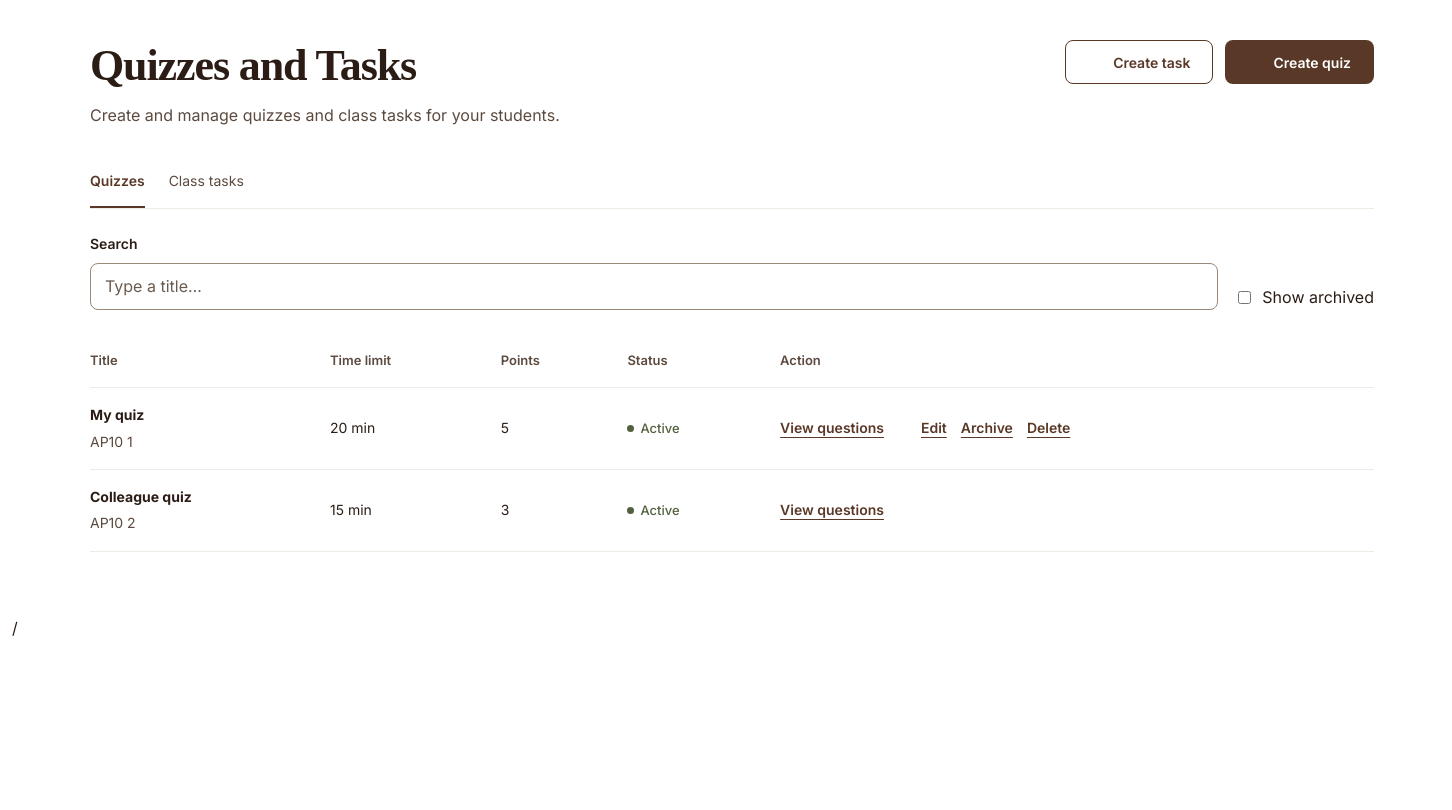
Test: AssessmentsPage › hides archived items until "Show archived" is ticked, and can restore them
Check: the text "My quiz" is shown, box [90, 406, 144, 423]
Check: the text "Old quiz" is not shown
Click the checkbox labelled "Show archived".
click(1245, 298)  # box [1238, 291, 1251, 304]
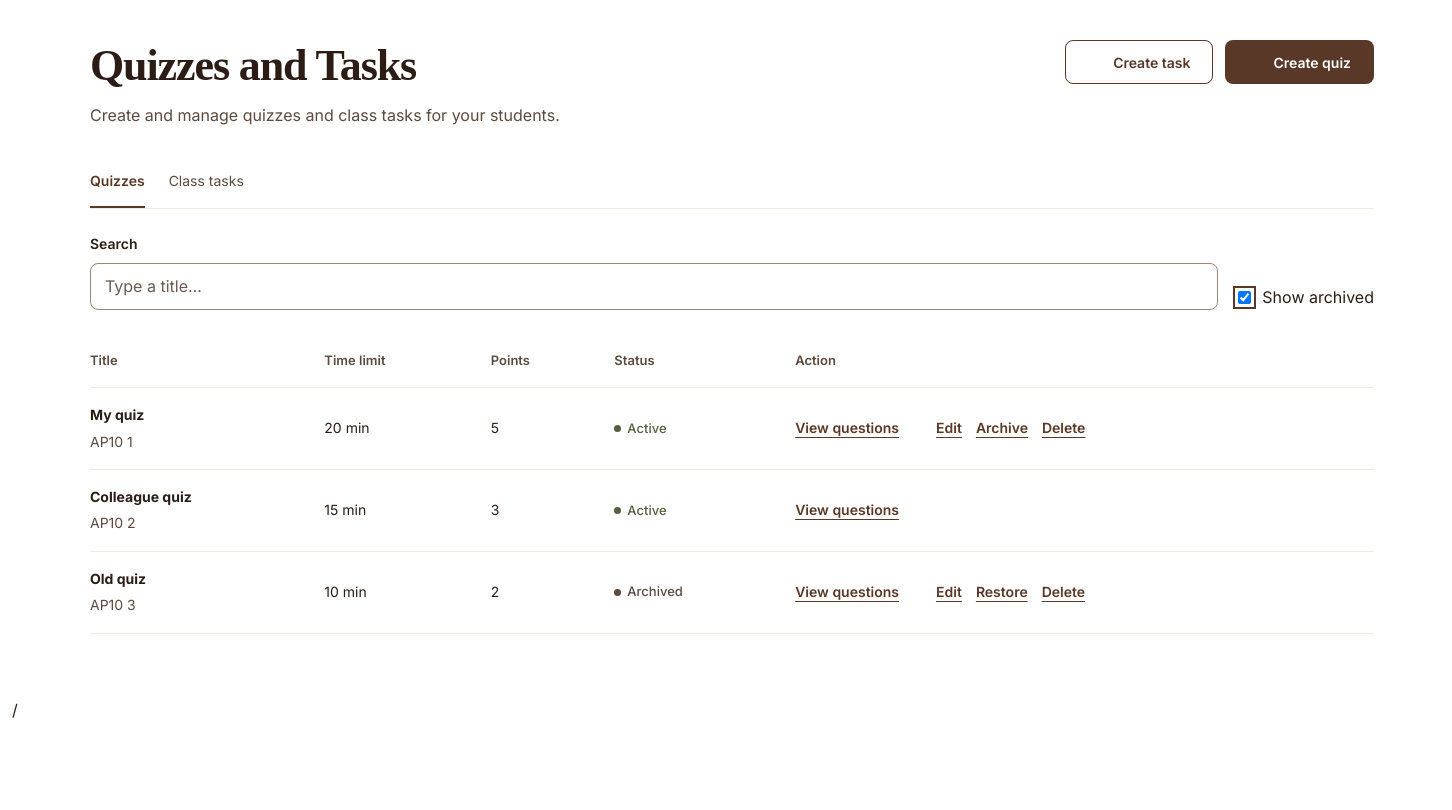
Click the button "Restore".
click(1002, 592)  # box [976, 570, 1028, 614]
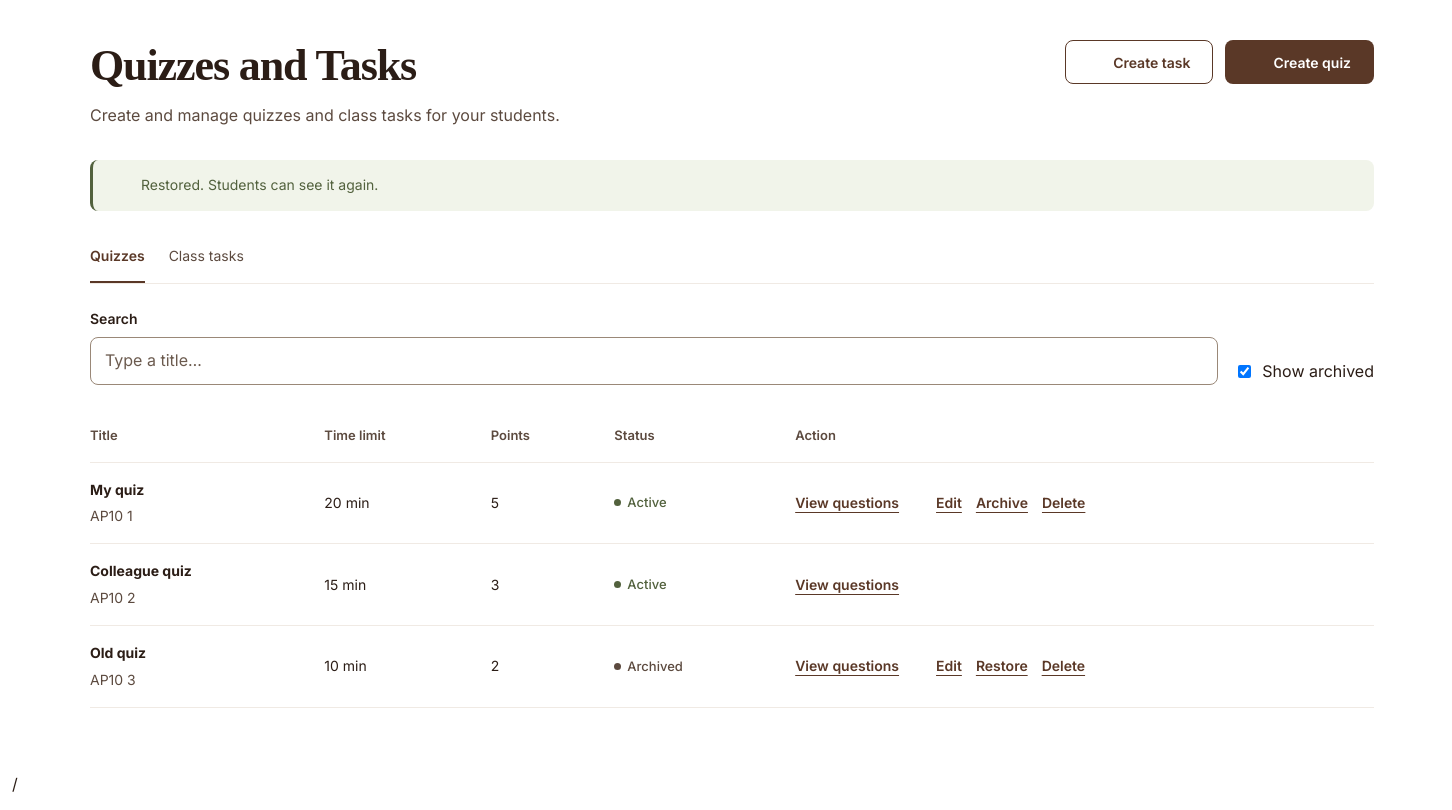
Check: the text "Restored. Students can see it again." is shown, box [141, 174, 378, 197]
